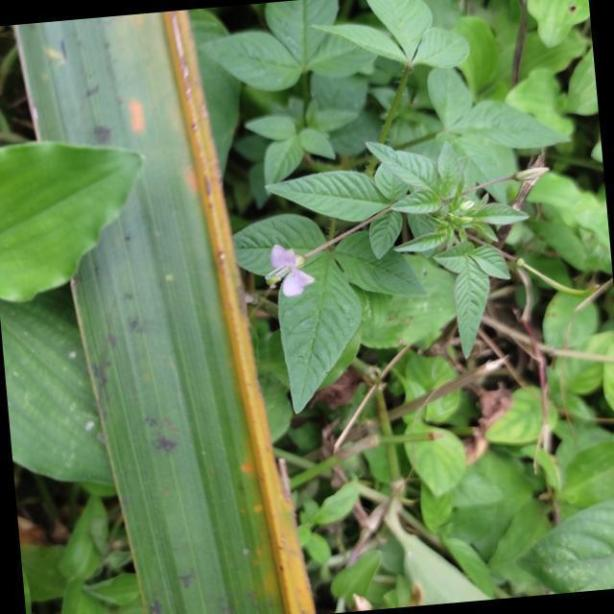Megnesium: (12, 9, 316, 614)
